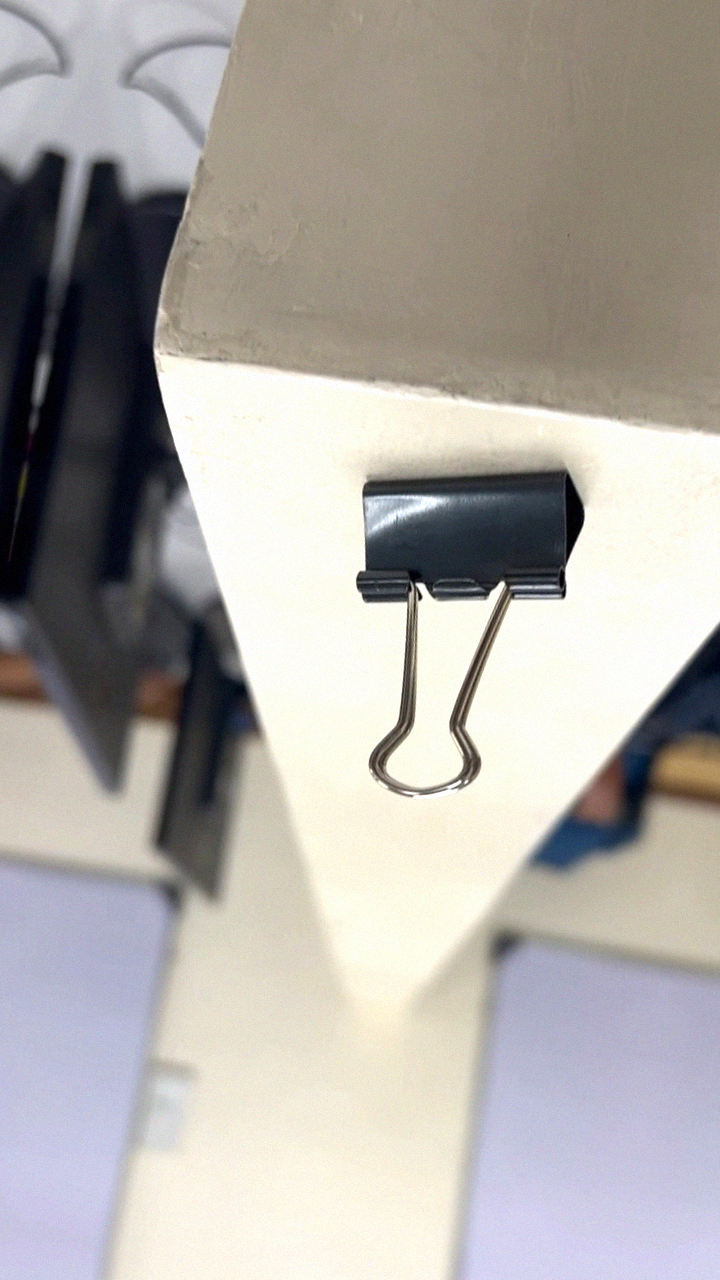kep_giay: (307, 439, 598, 824)
